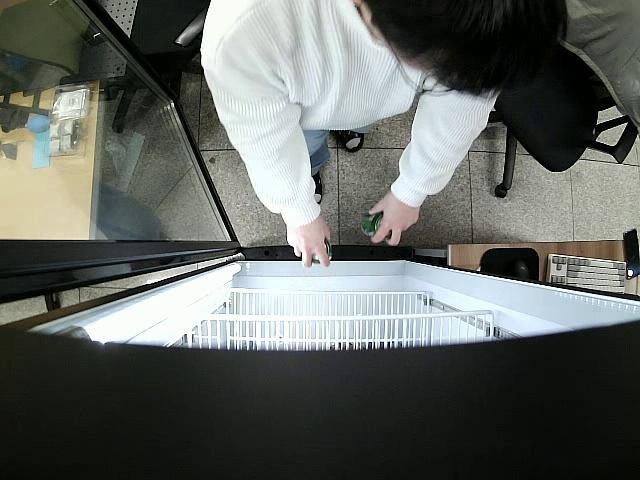12_chilsungCider: (362, 208, 392, 237), (311, 238, 332, 266)
